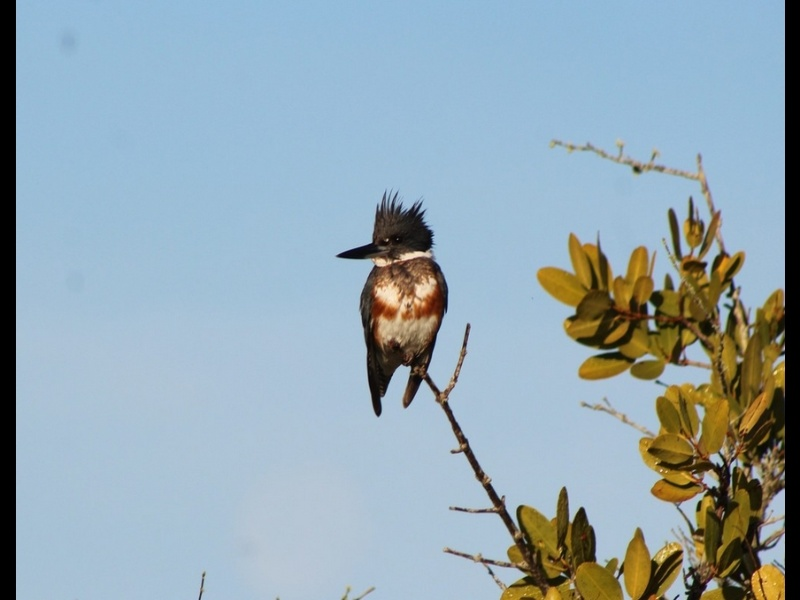kingfisher: (335, 188, 452, 416)
